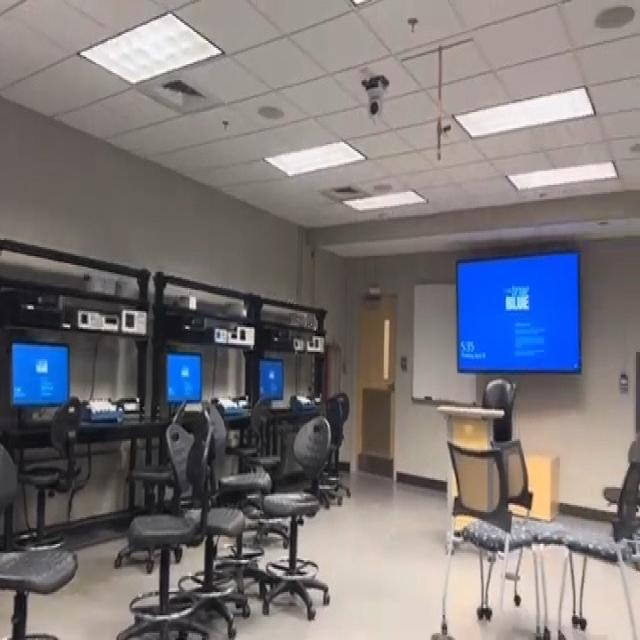drone: (301, 312, 323, 340)
